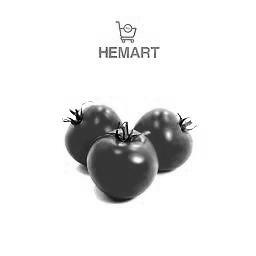bukan telur: (88, 127, 159, 202), (136, 107, 193, 170), (67, 104, 126, 164)
